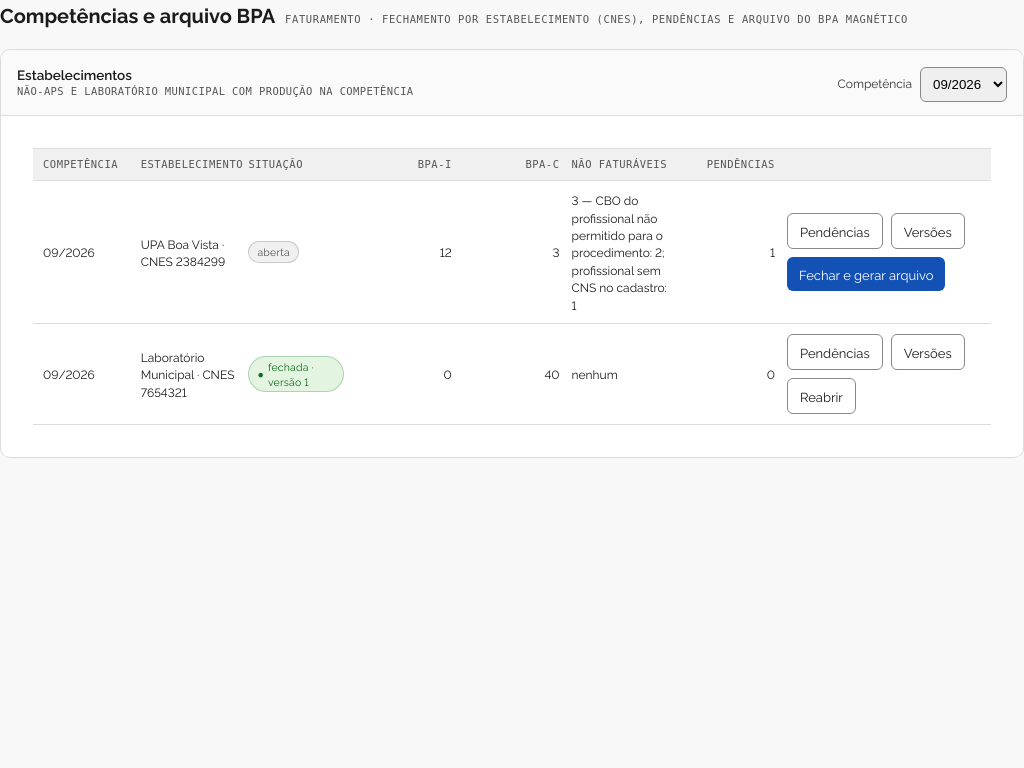
Scenario: BillingPeriods — fechamento, reabertura e arquivo › janela fechada pede o código; 422 settings_missing aponta a configuração e nada muda
Click the button "Fechar e gerar arquivo" at (866, 274), box [787, 257, 945, 291]
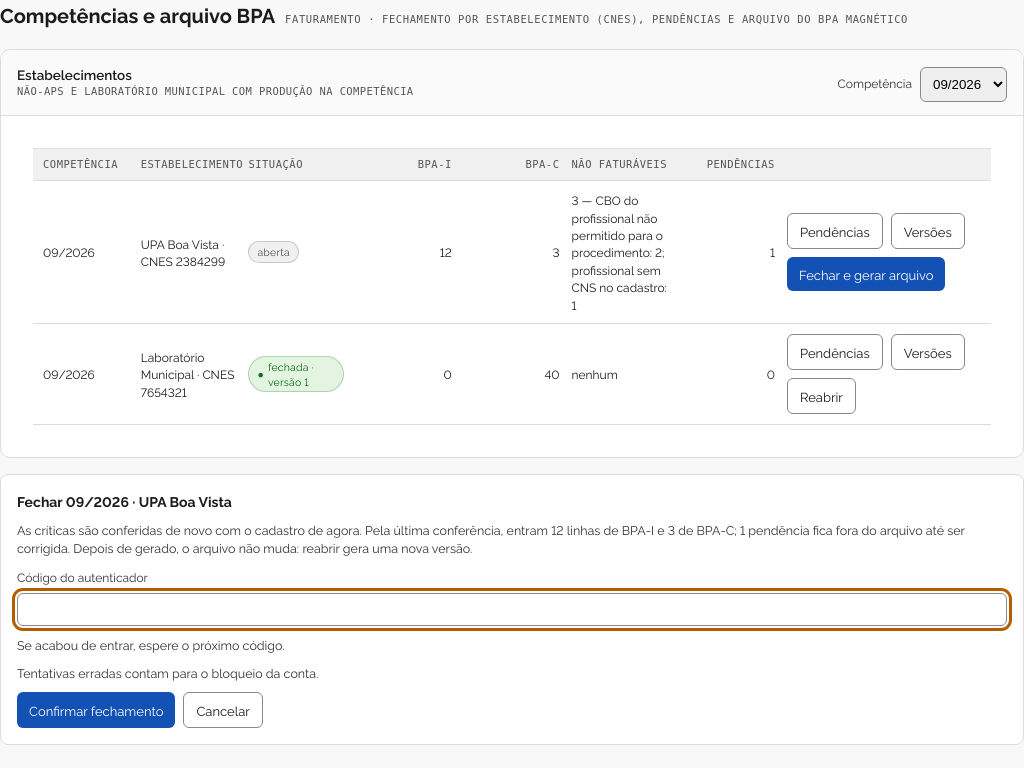
Type "123456" into the field labelled "Código do autenticador" at (512, 609), box [17, 593, 1007, 626]
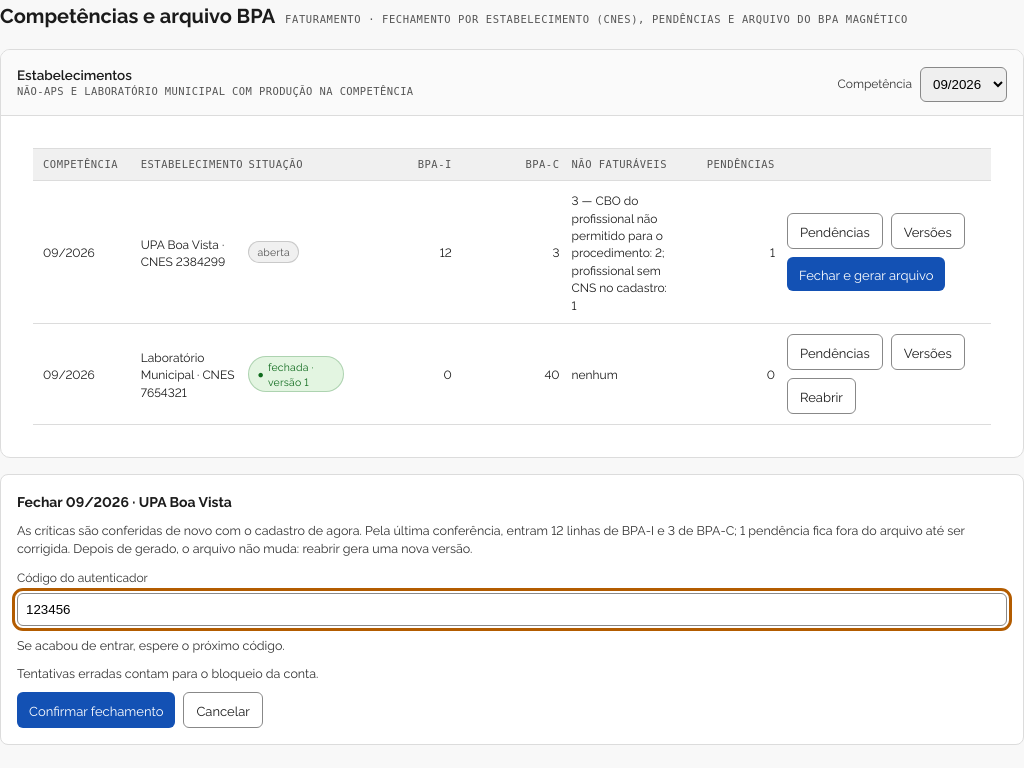
Click the button "Confirmar fechamento" at (96, 710), box [17, 692, 175, 728]
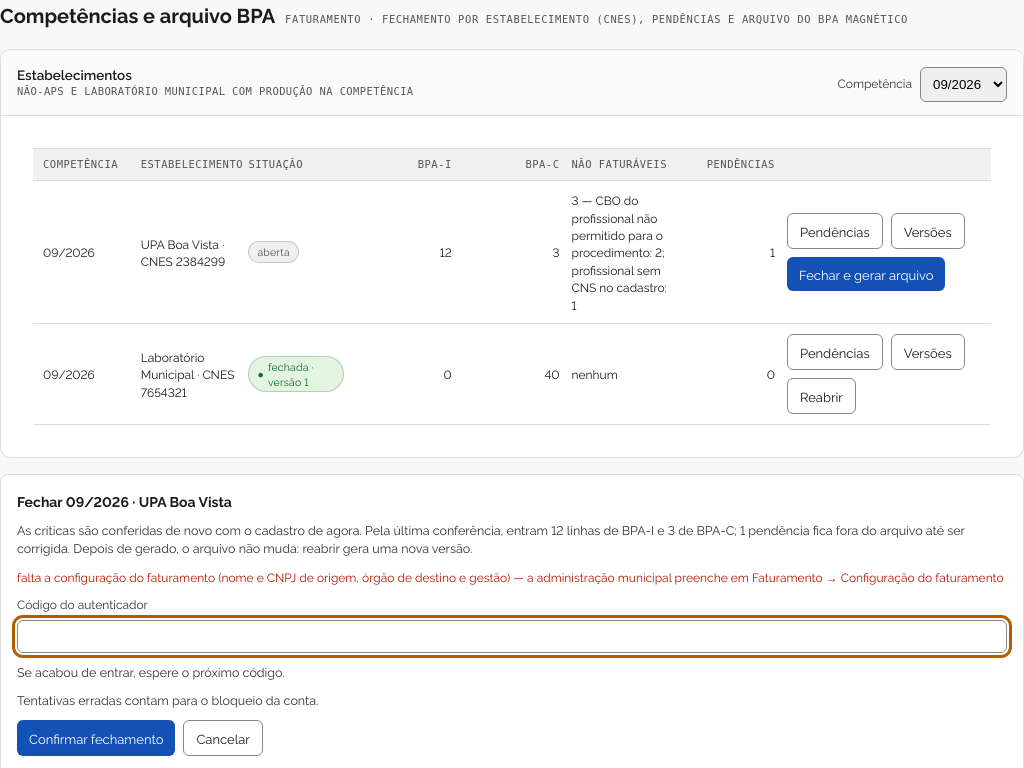
Expected: the message shows "falta a configuração do faturamento (nome e CNPJ de origem, órgão de destino e gestão) — a administração municipal preenche em Faturamento → Configuração do fat", [17, 568, 1004, 584]
